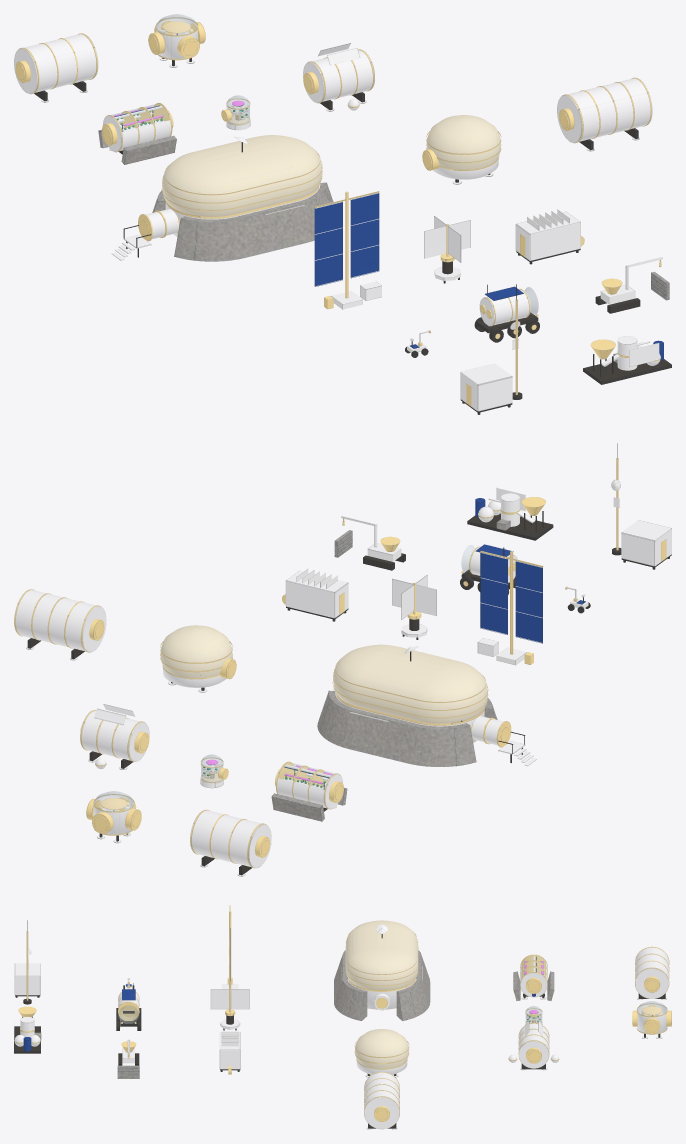
Rendered from models.glb.
The picture shows the model from 3 angles, top to bottom: view 1: azimuth 30°, elevation 25°; view 2: azimuth 150°, elevation 25°; view 3: azimuth 270°, elevation 25°; orthographic projection. The views are drawn at different scales.
Visible parts, largest first — view 1: Models_RICH_BAKED; view 2: Models_RICH_BAKED; view 3: Models_RICH_BAKED.
Part boxes in pixels (x1,y1,x2,y2): Models_RICH_BAKED: (14, 14, 671, 414); Models_RICH_BAKED: (14, 443, 671, 876); Models_RICH_BAKED: (14, 905, 671, 1129).
Size of the model in its own units: 52.58 by 10.79 by 77.95.
Materials: 2 (1 with a texture image).
